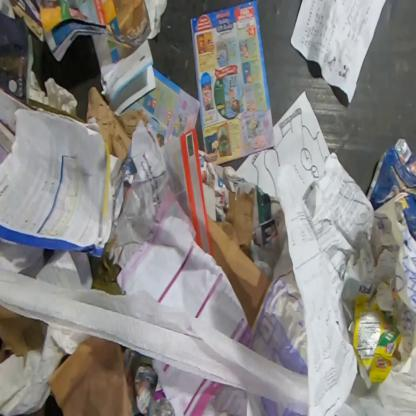cardboard: (207, 188, 272, 330), (47, 334, 134, 415), (351, 283, 404, 391), (366, 137, 416, 241), (0, 304, 45, 369)
